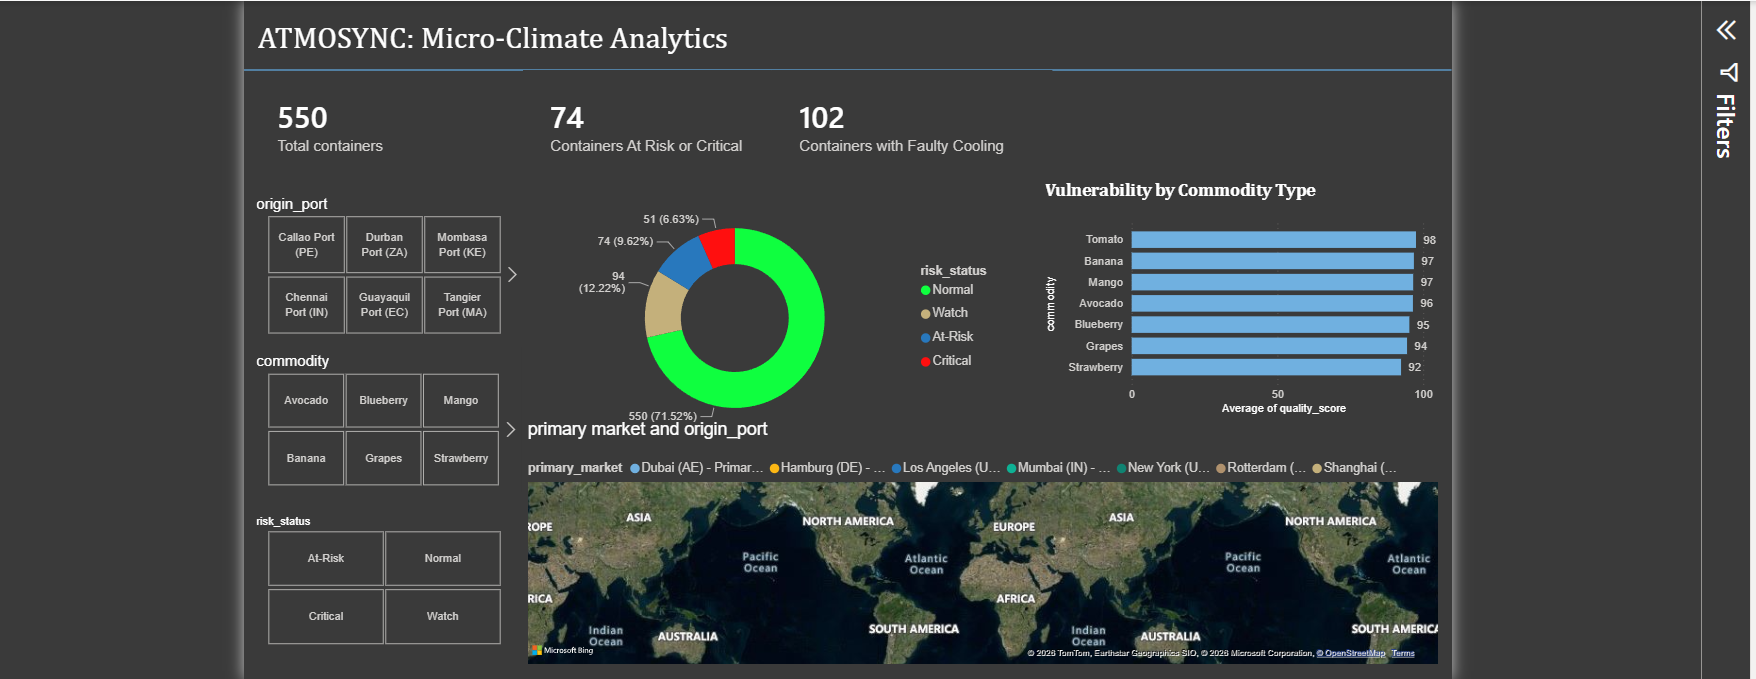

The page's visual inventory and layout, read from the dashboard file:
{"tool":"powerbi","page":{"name":"overview","canvas":[1280,720],"ordinal":0},"visuals":[{"type":"cardVisual","fields":{"Data":["Count(cleaned_dataset.container_id)"]},"box":[6.4,73.2,289.5,116.1],"z":0},{"type":"donutChart","title":"Fleet Health Status","fields":{"Category":["cleaned_dataset.risk_status"],"Y":["Count(cleaned_dataset.container_id)"]},"box":[318.1,170.2,489.9,299],"z":1000},{"type":"clusteredBarChart","title":"Vulnerability by Commodity Type","fields":{"Category":["cleaned_dataset.commodity"],"Y":["Avg(cleaned_dataset.quality_score)"]},"box":[844.6,189.3,435.8,254.5],"z":2000},{"type":"textbox","box":[9.5,14.3,906.6,70],"z":3000},{"type":"shape","box":[0,66.8,1280.4,12.7],"z":4000},{"type":"slicer","fields":{"Values":["cleaned_dataset.origin_port"]},"box":[0,200.4,295.9,159.1],"z":5000},{"type":"slicer","fields":{"Values":["cleaned_dataset.commodity"]},"box":[0,367.4,294.3,152.7],"z":6000},{"type":"slicer","fields":{"Values":["cleaned_dataset.risk_status"]},"box":[0,539.2,295.9,149.5],"z":7000},{"type":"cardVisual","fields":{"Data":["Count(cleaned_dataset.container_id)"]},"box":[295.9,73.2,264,116.1],"z":8000},{"type":"cardVisual","fields":{"Data":["Count(cleaned_dataset.container_id)"]},"box":[559.9,73.2,297.4,116.1],"z":9000},{"type":"map","title":"primary market and origin_port","fields":{"Category":["cleaned_dataset.origin_port"],"Size":["CountNonNull(cleaned_dataset.container_id)"],"Series":["cleaned_dataset.primary_market"]},"box":[295.9,443.8,975,264],"z":10000}]}

Visuals, with their boxes on the page's 1280x720 design canvas (x1, y1, x2, y2). These are canvas units, not pixel positions in the 1756x679 screenshot, which may show the page scaled, cropped or inside an application window:
cardVisual - Count(cleaned_dataset.container_id): box=[6, 73, 296, 189]
"Fleet Health Status" donutChart: box=[318, 170, 808, 469]
"Vulnerability by Commodity Type" clusteredBarChart: box=[845, 189, 1280, 444]
textbox: box=[10, 14, 916, 84]
shape: box=[0, 67, 1280, 80]
slicer - cleaned_dataset.origin_port: box=[0, 200, 296, 360]
slicer - cleaned_dataset.commodity: box=[0, 367, 294, 520]
slicer - cleaned_dataset.risk_status: box=[0, 539, 296, 689]
cardVisual - Count(cleaned_dataset.container_id): box=[296, 73, 560, 189]
cardVisual - Count(cleaned_dataset.container_id): box=[560, 73, 857, 189]
"primary market and origin_port" map: box=[296, 444, 1271, 708]
